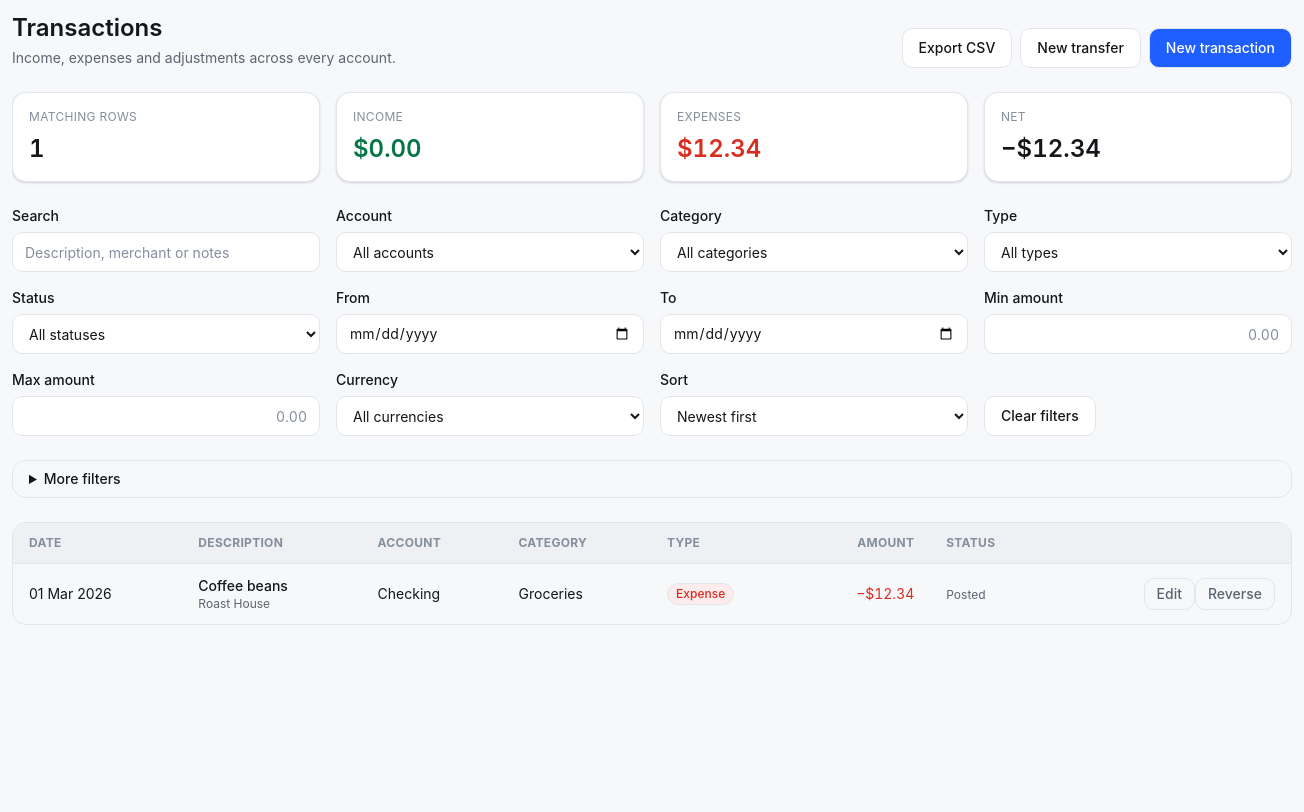
TransactionsPage › debounces the search box into the query
Expected: the text "Coffee beans" is shown, [198,577,288,594]
Type "beans" into the field labelled "Search" at (166, 252), box [12,232,320,272]
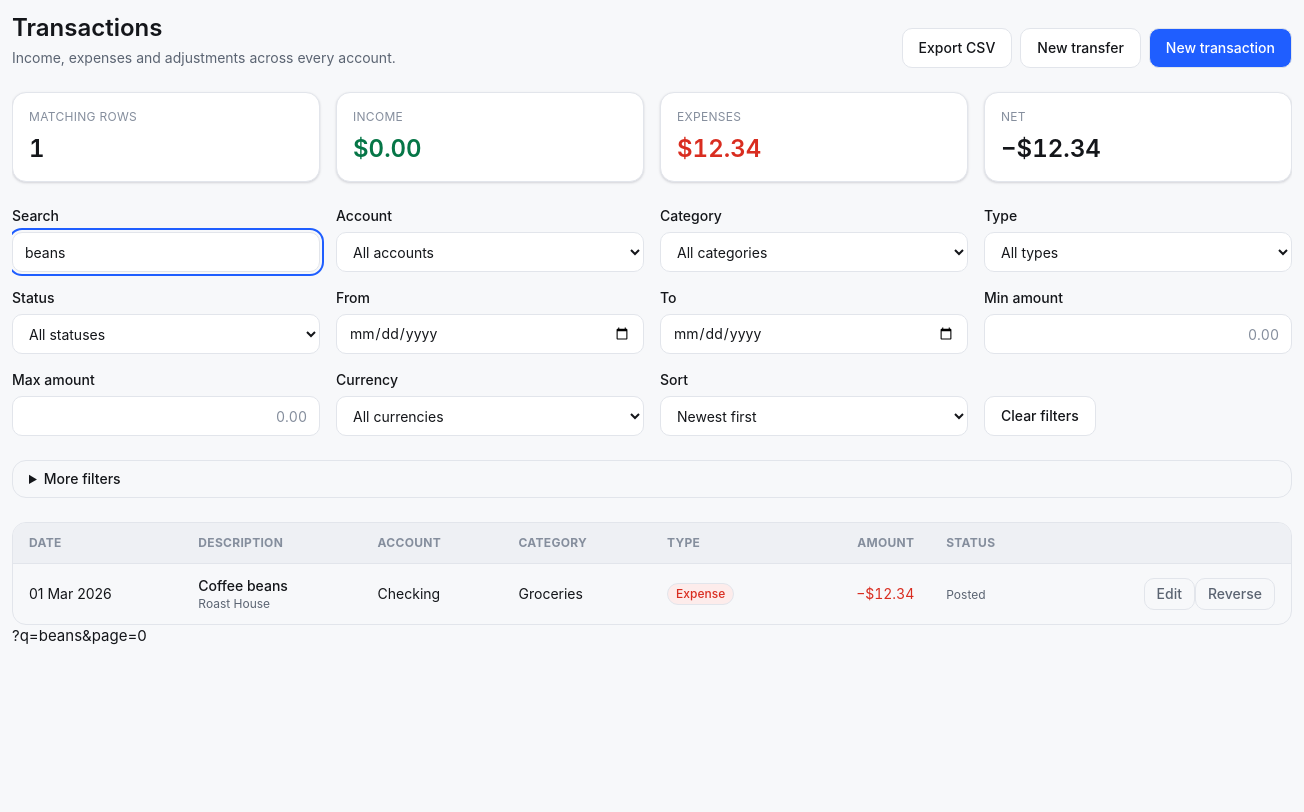
Expected: the text with test id "location" shows "q=beans", [12,626,147,645]
